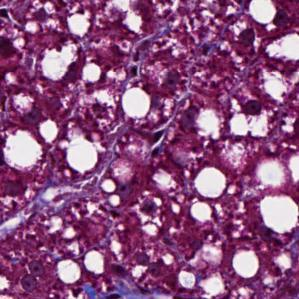steatosis: (120, 84, 156, 122), (191, 167, 229, 200)
